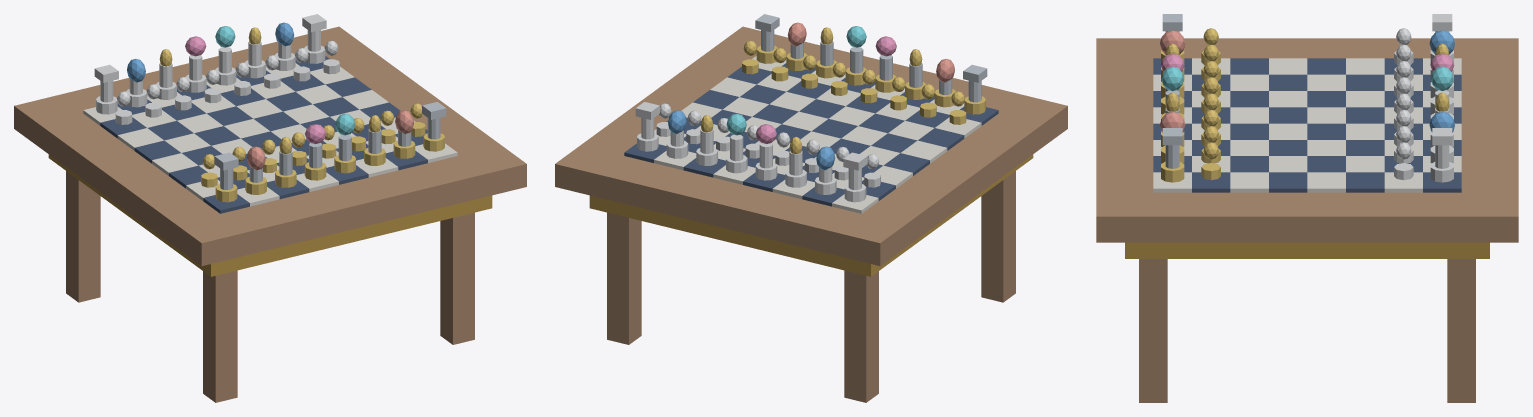
Rendered from chess_table_v2.glb.
3 views of the same model, side by side, from view 1: azimuth 30°, elevation 25°; view 2: azimuth 150°, elevation 25°; view 3: azimuth 270°, elevation 25° (orthographic). The views are drawn at different scales.
Visible parts, largest first — view 1: tabletop, table_apron, table_leg_-0.54_0.54, table_leg_0.54_0.54, table_leg_-0.54_-0.54, square_0_2, square_0_3, square_0_4, square_1_3, square_2_3, square_7_2, square_2_2 (+13 smaller); view 2: tabletop, table_apron, table_leg_-0.54_-0.54, table_leg_0.54_-0.54, table_leg_-0.54_0.54, square_0_5, square_0_4, square_0_3, square_1_4, square_2_4, square_7_5, square_2_5 (+13 smaller); view 3: tabletop, table_apron, table_leg_0.54_-0.54, table_leg_0.54_0.54, square_7_2, square_7_3, square_7_4, square_7_5, square_7_1, square_7_6, square_0_2, square_0_3 (+36 smaller).
Boxes of the visible parts, x1,y1,x2,y2 form: tabletop: [14, 26, 526, 265]; table_apron: [48, 154, 492, 276]; table_leg_-0.54_0.54: [203, 270, 237, 402]; table_leg_0.54_0.54: [440, 212, 474, 344]; table_leg_-0.54_-0.54: [66, 171, 100, 302]; square_0_2: [117, 128, 163, 150]; square_0_3: [134, 140, 180, 163]; square_0_4: [152, 153, 198, 175]; square_1_3: [164, 133, 210, 152]; square_2_3: [194, 126, 240, 145]; square_7_2: [325, 77, 371, 96]; square_2_2: [177, 113, 222, 133]; tabletop: [555, 26, 1067, 265]; table_apron: [589, 154, 1033, 276]; table_leg_-0.54_-0.54: [844, 270, 878, 402]; table_leg_0.54_-0.54: [607, 212, 641, 344]; table_leg_-0.54_0.54: [981, 171, 1015, 302]; square_0_5: [918, 128, 964, 150]; square_0_4: [901, 140, 947, 163]; square_0_3: [883, 153, 929, 175]; square_1_4: [871, 133, 917, 152]; square_2_4: [841, 126, 887, 145]; square_7_5: [710, 77, 756, 96]; square_2_5: [859, 113, 904, 133]; tabletop: [1096, 38, 1518, 242]; table_apron: [1125, 242, 1489, 258]; table_leg_0.54_-0.54: [1447, 259, 1475, 402]; table_leg_0.54_0.54: [1139, 259, 1167, 402]; square_7_2: [1346, 172, 1384, 192]; square_7_3: [1307, 172, 1345, 192]; square_7_4: [1269, 172, 1307, 192]; square_7_5: [1230, 172, 1268, 192]; square_7_1: [1384, 172, 1422, 192]; square_7_6: [1192, 172, 1230, 192]; square_0_2: [1346, 58, 1384, 74]; square_0_3: [1307, 58, 1345, 74].
Size of the model in its own units: 1.48 by 1.06 by 1.48.
